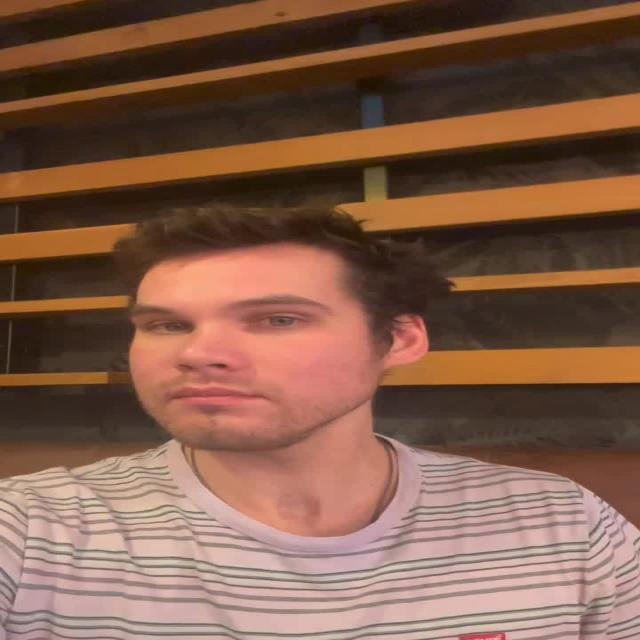earlobe: (384, 312, 430, 368)
